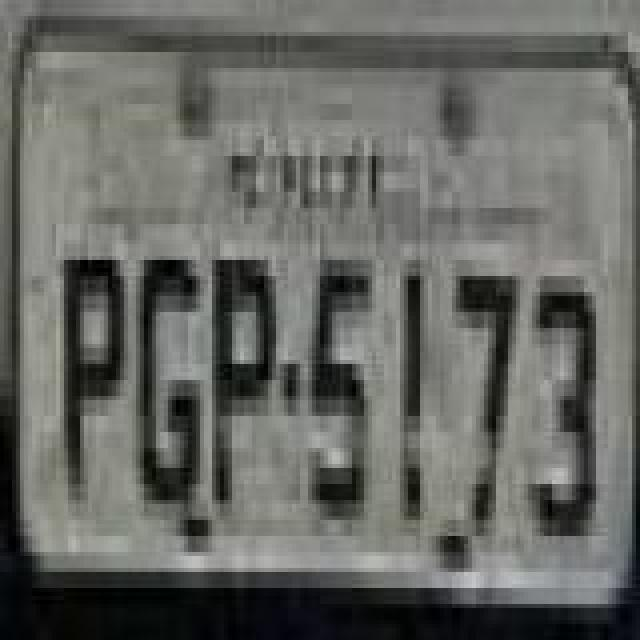1: (392, 270, 424, 530)
3: (528, 270, 600, 546)
5: (308, 262, 380, 522)
7: (456, 270, 520, 530)
G: (132, 250, 204, 510)
P: (60, 250, 132, 510), (204, 250, 276, 510)
